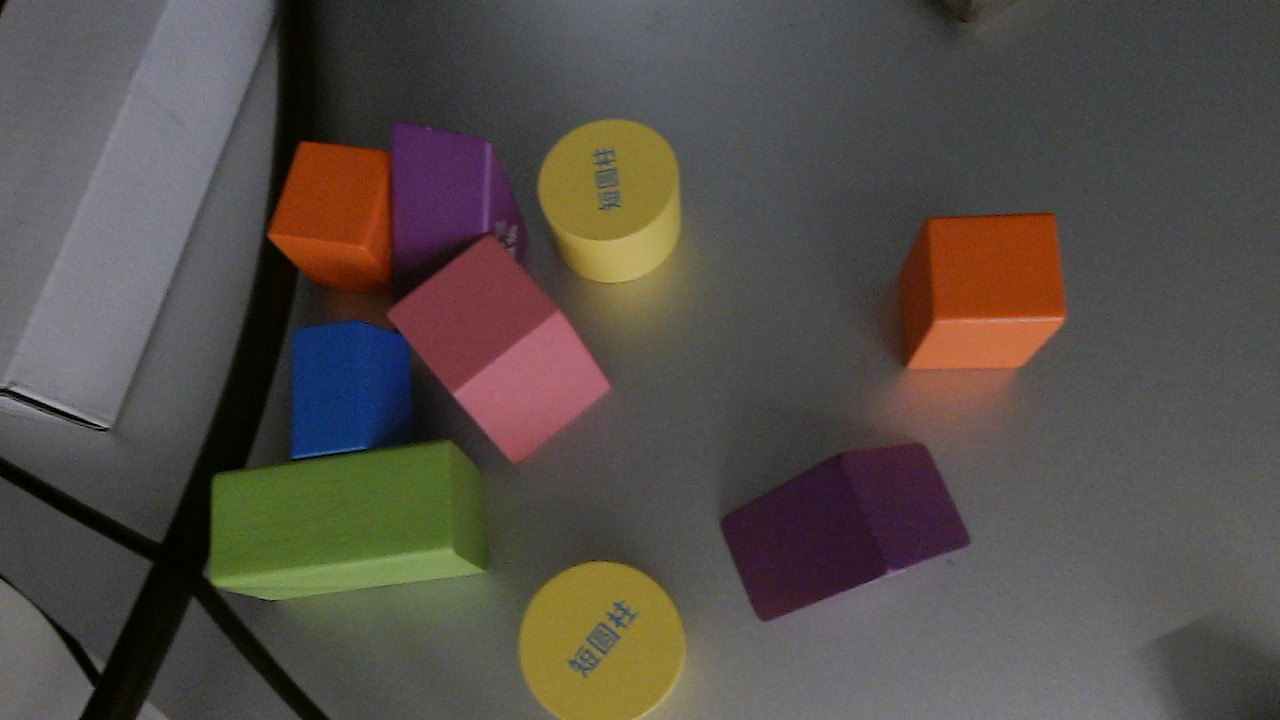circle: (517, 559, 690, 719), (538, 118, 681, 288)
diamond: (381, 233, 613, 469)
hexagon: (290, 321, 408, 460)
rectangle: (209, 438, 485, 601)
square: (896, 212, 1072, 373), (265, 139, 396, 292)
triangle: (719, 443, 973, 622), (392, 120, 528, 289)
